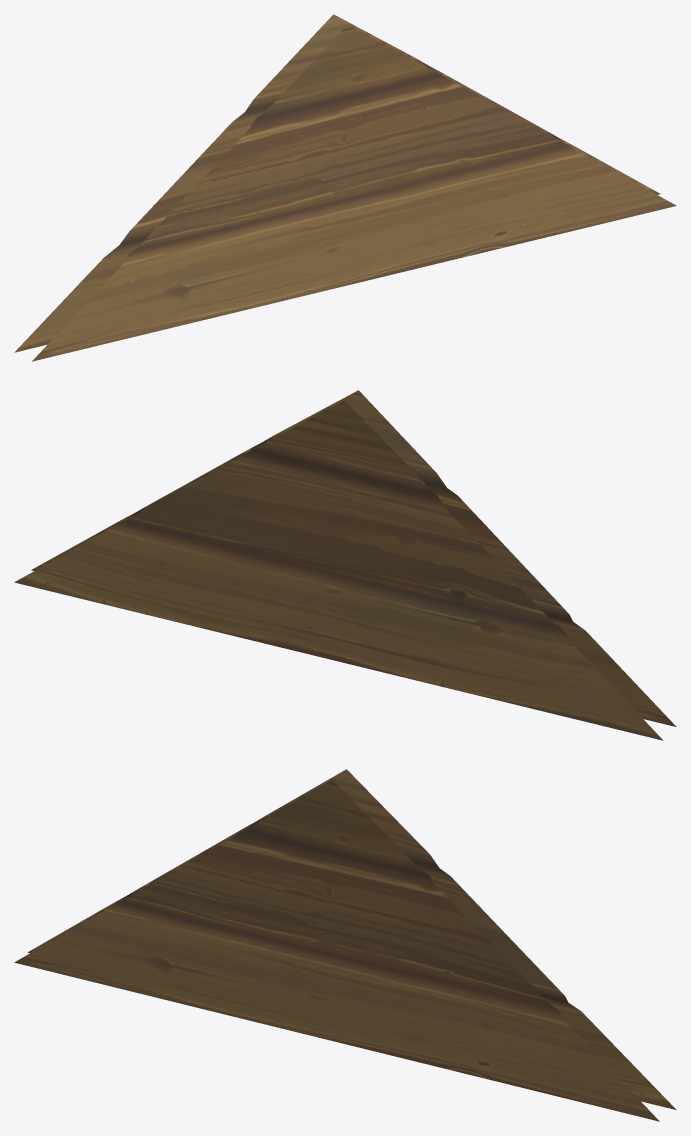
The model's file is SM_MOD_wall_triangle_planks_hor_town.fbx.
3 views of the same model, one above another, from view 1: azimuth 30°, elevation 25°; view 2: azimuth 150°, elevation 25°; view 3: azimuth 330°, elevation 25° (orthographic).
Parts seen in each view (by area): view 1: SM_MOD_wall_triangle_planks_hor_town; view 2: SM_MOD_wall_triangle_planks_hor_town; view 3: SM_MOD_wall_triangle_planks_hor_town.
Part boxes in pixels (left/top/right/bottom): SM_MOD_wall_triangle_planks_hor_town: left=14, top=14, right=676, bottom=361; SM_MOD_wall_triangle_planks_hor_town: left=14, top=390, right=676, bottom=740; SM_MOD_wall_triangle_planks_hor_town: left=14, top=769, right=676, bottom=1121.
Bounding box in the file's own units: 331 × 128 × 14.49.
